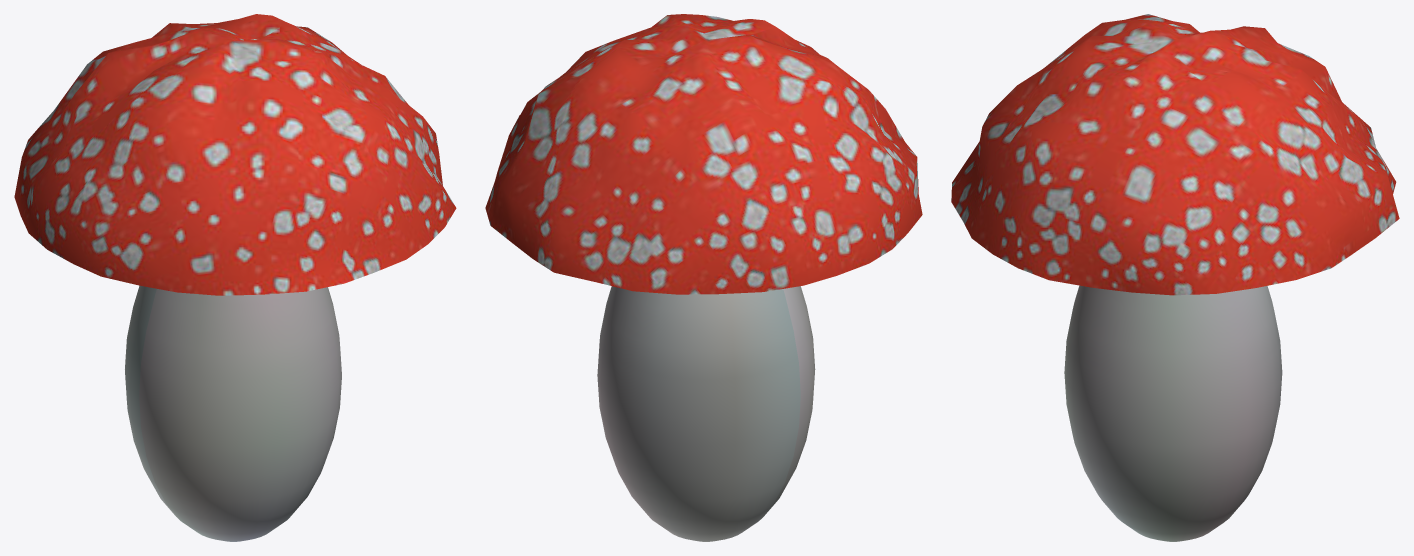
Rendered from amanita.glb.
3 views of the same model, side by side, from view 1: azimuth 30°, elevation 25°; view 2: azimuth 150°, elevation 25°; view 3: azimuth 270°, elevation 25° (orthographic).
Visible parts, largest first — view 1: amanita; view 2: amanita; view 3: amanita.
Boxes of the visible parts, x1,y1,x2,y2 form: amanita: [14, 14, 456, 541]; amanita: [485, 14, 922, 541]; amanita: [951, 14, 1399, 541].
Bounding box in the file's own units: 0.5197 × 0.6572 × 0.5372.
Materials: 1 (1 with a texture image).
